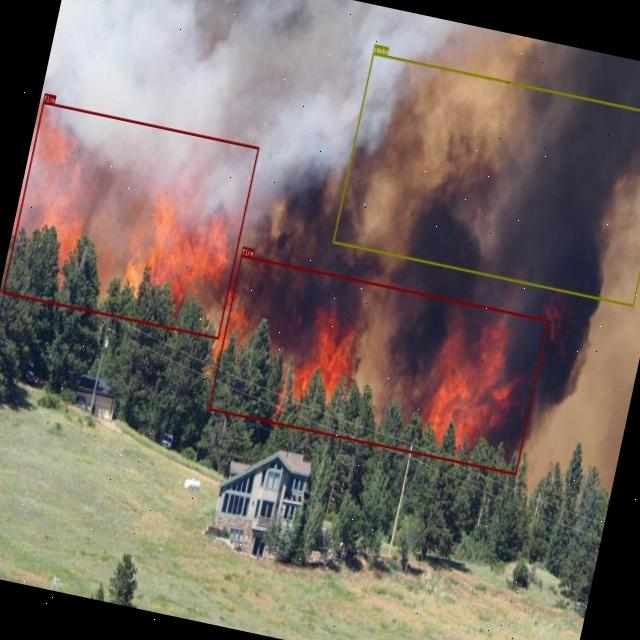fire: (208, 254, 548, 475), (2, 100, 258, 340)
smoke: (331, 52, 640, 306)
